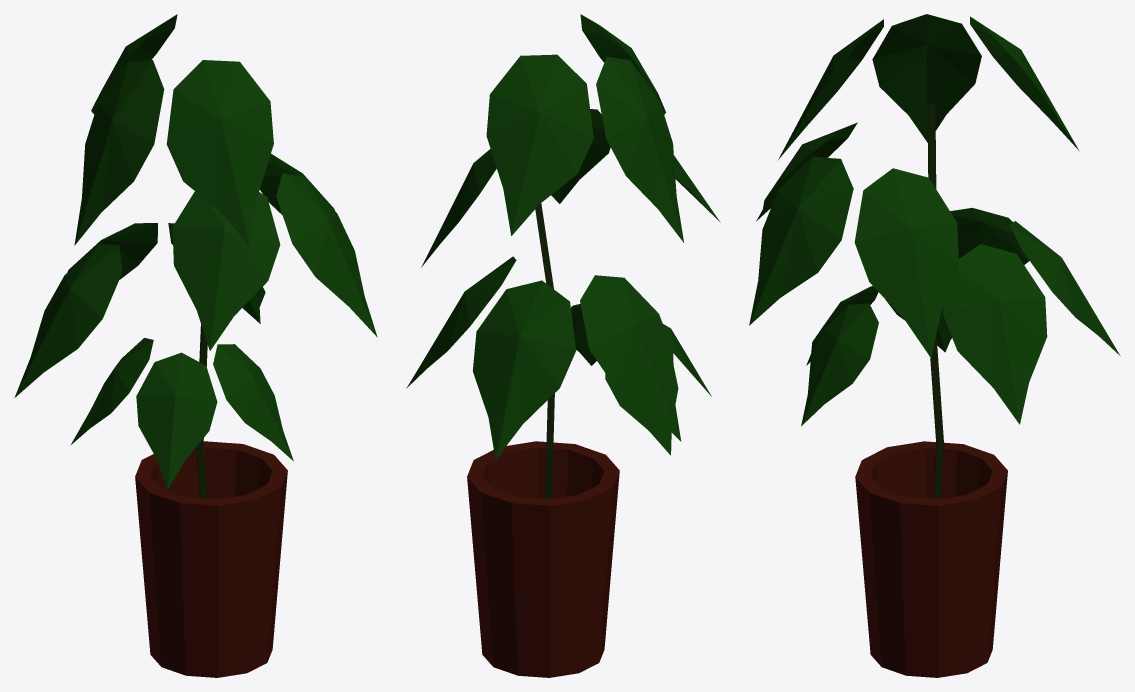
File: caymini.fbx
The picture shows the model from 3 angles, left to right: view 1: azimuth 30°, elevation 25°; view 2: azimuth 150°, elevation 25°; view 3: azimuth 270°, elevation 25°; orthographic projection.
Parts seen in each view (by area): view 1: VIFS001, VIFS002, VIFS003; view 2: VIFS001, VIFS002, VIFS003; view 3: VIFS001, VIFS002, VIFS003.
Boxes of the visible parts, x1,y1,x2,y2 form: VIFS001: (14,14,377,489); VIFS002: (135,441,287,677); VIFS003: (196,324,207,498); VIFS001: (406,14,720,459); VIFS002: (467,441,619,677); VIFS003: (535,203,554,499); VIFS001: (749,14,1120,426); VIFS002: (855,441,1007,677); VIFS003: (927,101,943,499).
Size of the model in its own units: 19.52 by 39.79 by 21.64.
